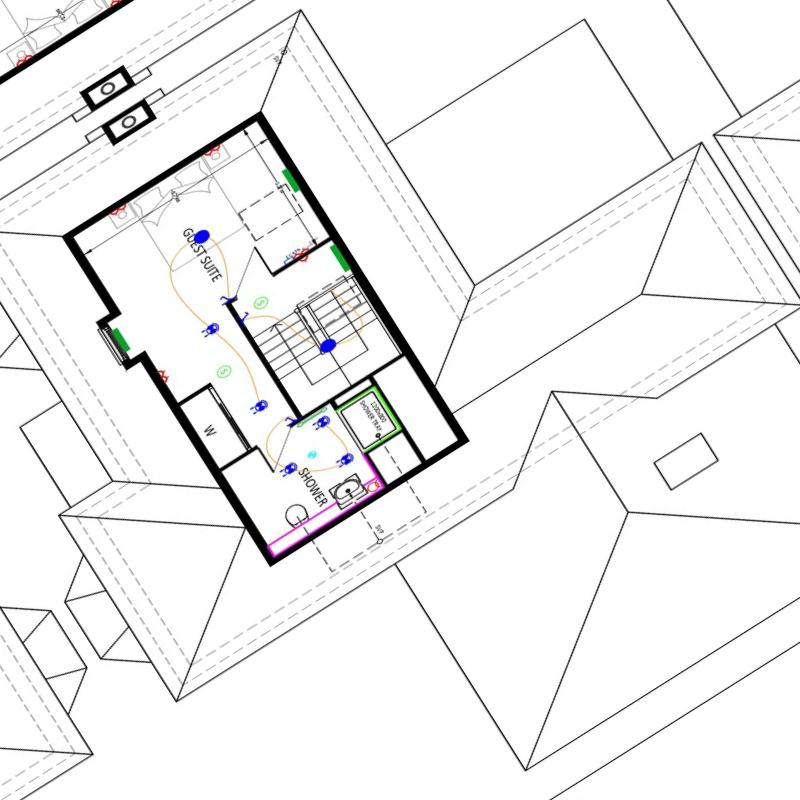Cat 6 Data Socket: (283, 248, 301, 265)
Ceiling Mounted Continuous Extract FanWith Boost Mode Activated By Light Switch: (307, 450, 317, 459)
Co-Ax TV Socket: (307, 237, 319, 249)
Double Socket: (203, 144, 221, 157), (15, 53, 32, 66), (110, 204, 126, 216), (158, 369, 170, 383), (294, 248, 308, 258)
Full Height Tiling: (336, 386, 403, 451)
Light Switch: (241, 311, 249, 322), (284, 417, 296, 424), (220, 296, 231, 302)
Low Energy Downlighter: (201, 322, 220, 338), (279, 462, 298, 478), (312, 415, 331, 430), (250, 400, 268, 415), (336, 453, 354, 468)
Low Energy Pendant Light: (320, 339, 337, 353), (194, 230, 210, 244)
Mains Wired Smoke Detector: (253, 296, 268, 310), (216, 365, 232, 378)
Radiator: (330, 245, 350, 272), (111, 328, 131, 353), (282, 169, 300, 193)
Shaver Socket: (365, 479, 382, 493)
Single Socket: (300, 256, 308, 263)
